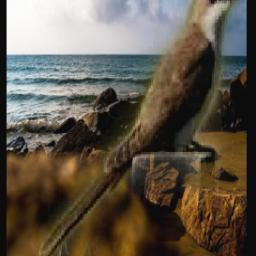Cuckoo: (38, 0, 244, 256)
